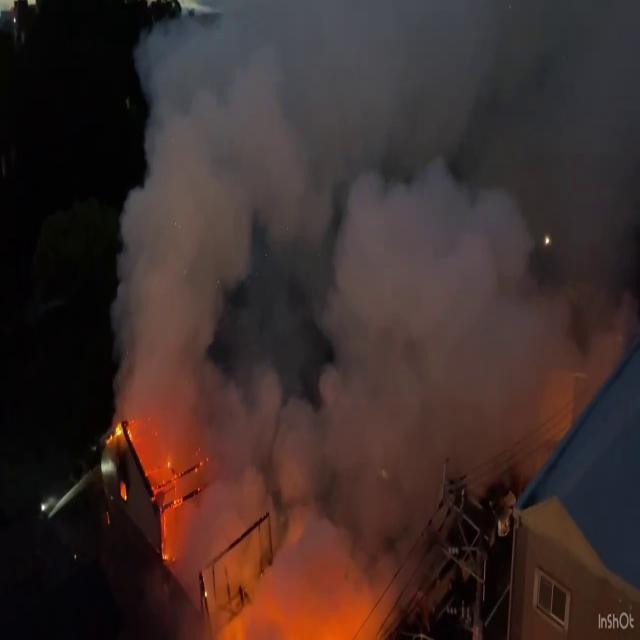Smoke: (96, 1, 638, 612)
